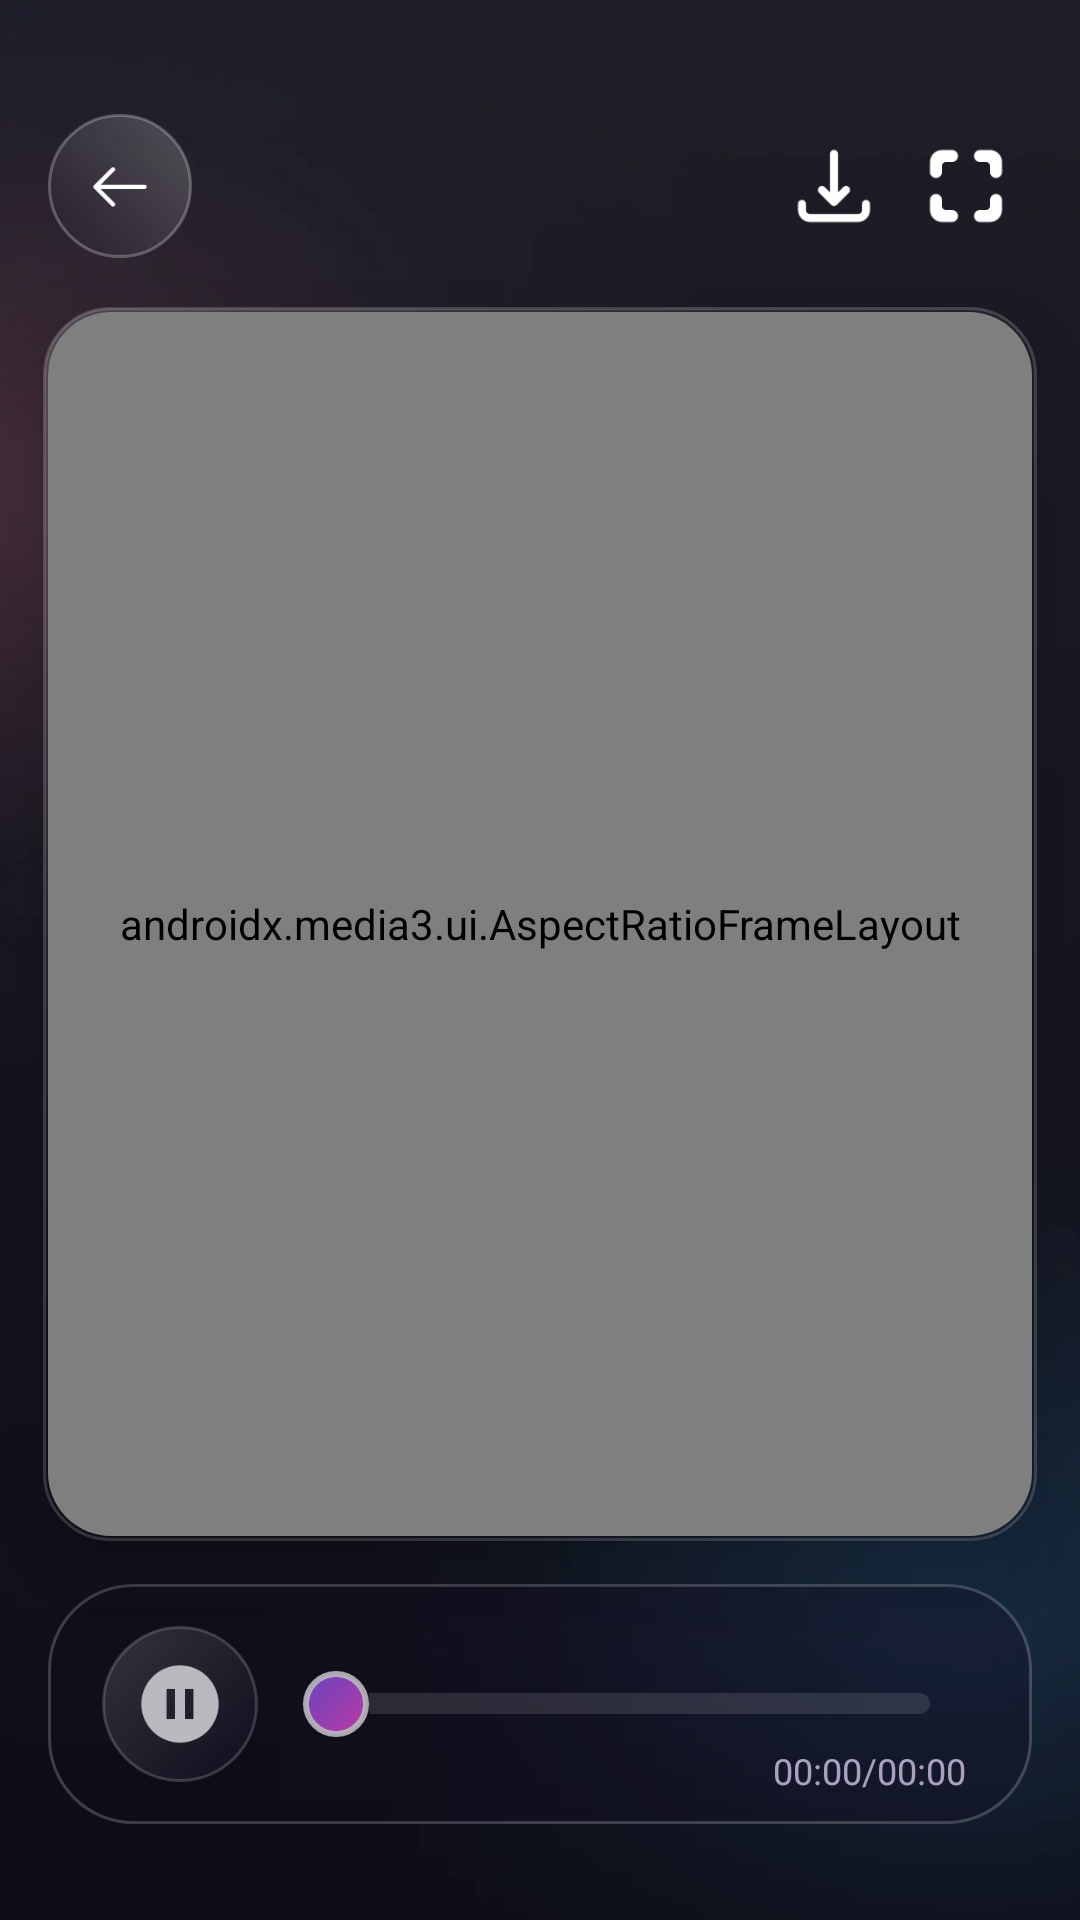

Screen size 1080w x 1920h. Icon name, then its center in pixels as (x=x, y=y):
download: (x=834, y=186)
full screen: (x=966, y=186)
pause video: (x=180, y=1704)
